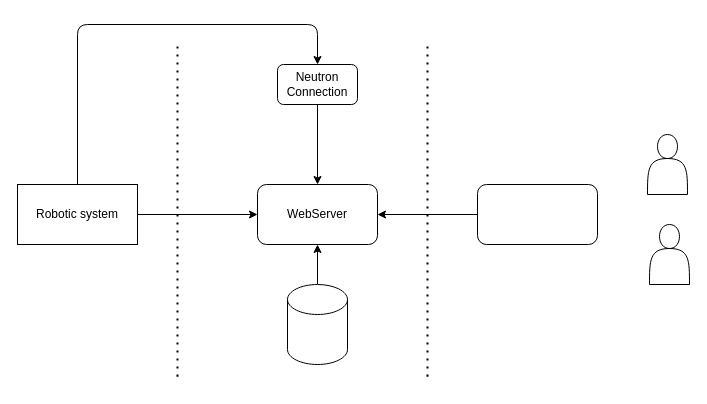
Some shapes in this 707 by 404 pixel diagram are drawn without their labels. Each missing label, with the centre of its shape:
"Database" belongs at point 317,324.
"Web Interface" belongs at point 537,214.
